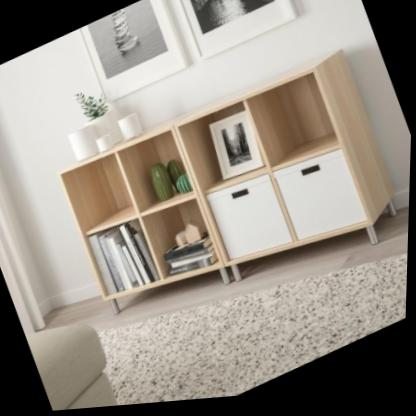Carpet: (99, 258, 409, 408)
Shelf: (45, 36, 415, 372)
